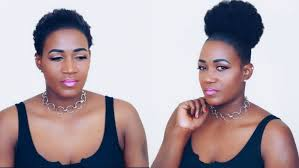person: (33, 7, 93, 99), (197, 37, 254, 104)
